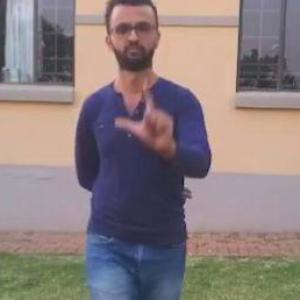land_hand: (110, 72, 182, 151)
